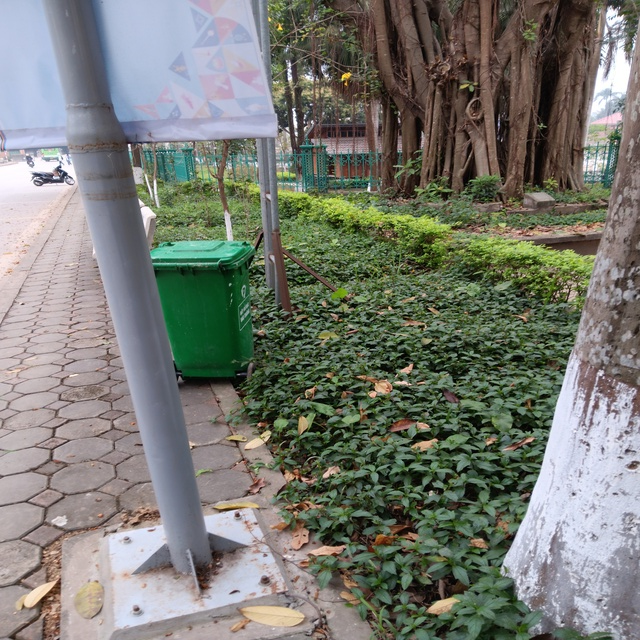thungrac: (142, 235, 267, 390)
